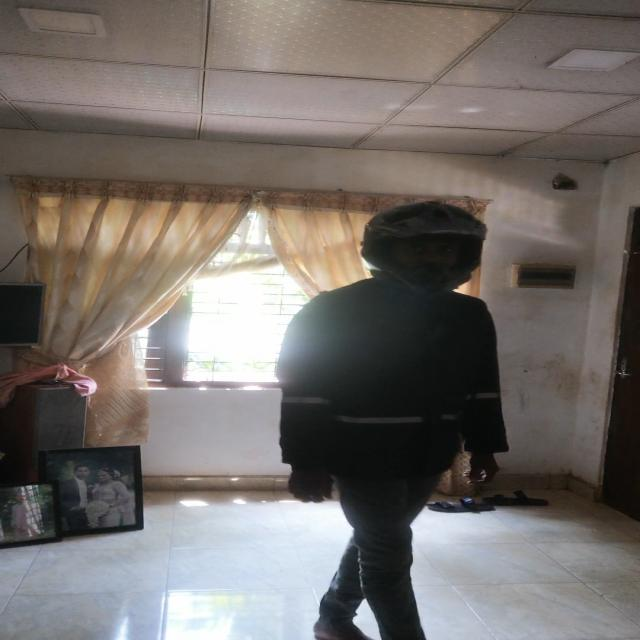Helmet_Wearer: (339, 203, 502, 304)
Jacket_Wearer: (269, 273, 506, 499)
Person: (270, 201, 510, 640)
